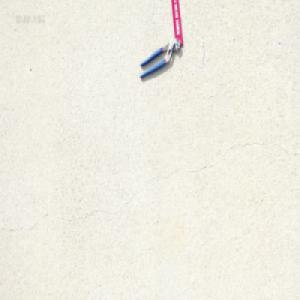Label: (170, 0, 183, 46)
Pliers: (138, 37, 180, 80)
